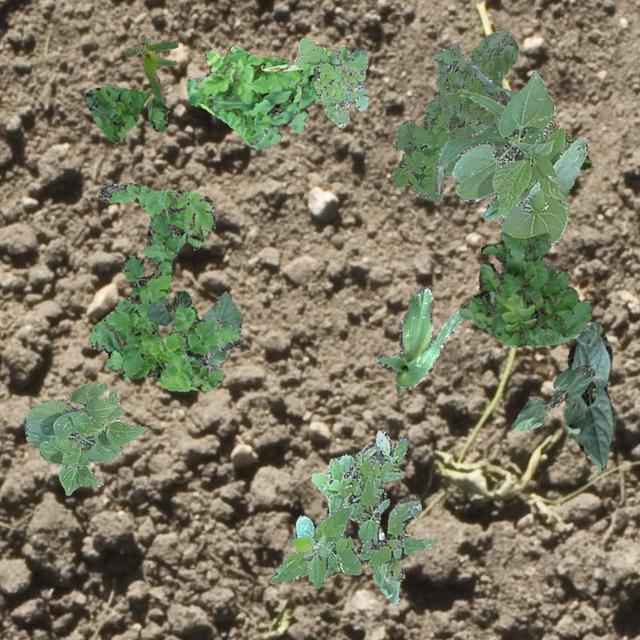crop: (450, 70, 588, 244), (22, 380, 146, 494), (433, 65, 518, 193), (374, 286, 464, 392), (562, 322, 616, 469), (268, 506, 360, 588), (511, 364, 594, 429), (122, 36, 176, 102), (202, 290, 242, 368), (372, 526, 399, 604), (548, 120, 590, 170), (146, 288, 190, 324)
weed: (88, 182, 242, 390), (392, 28, 518, 202), (310, 428, 434, 580), (458, 230, 592, 346), (185, 44, 318, 148), (292, 36, 368, 126), (85, 84, 172, 140)
